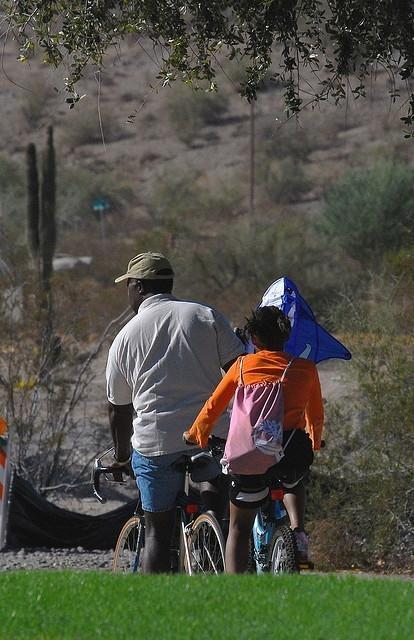bicycle: (90, 455, 228, 575), (252, 472, 305, 576)
